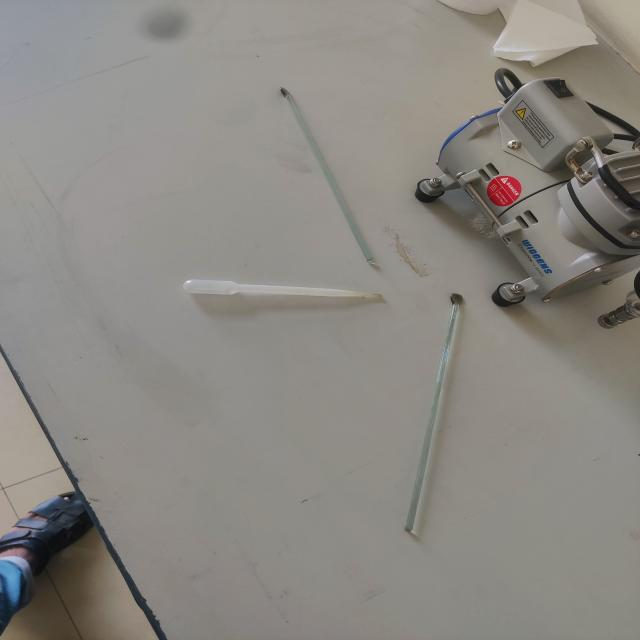Glass_Rod: (260, 62, 400, 278), (389, 276, 493, 552)
Pipette: (150, 253, 394, 324)
